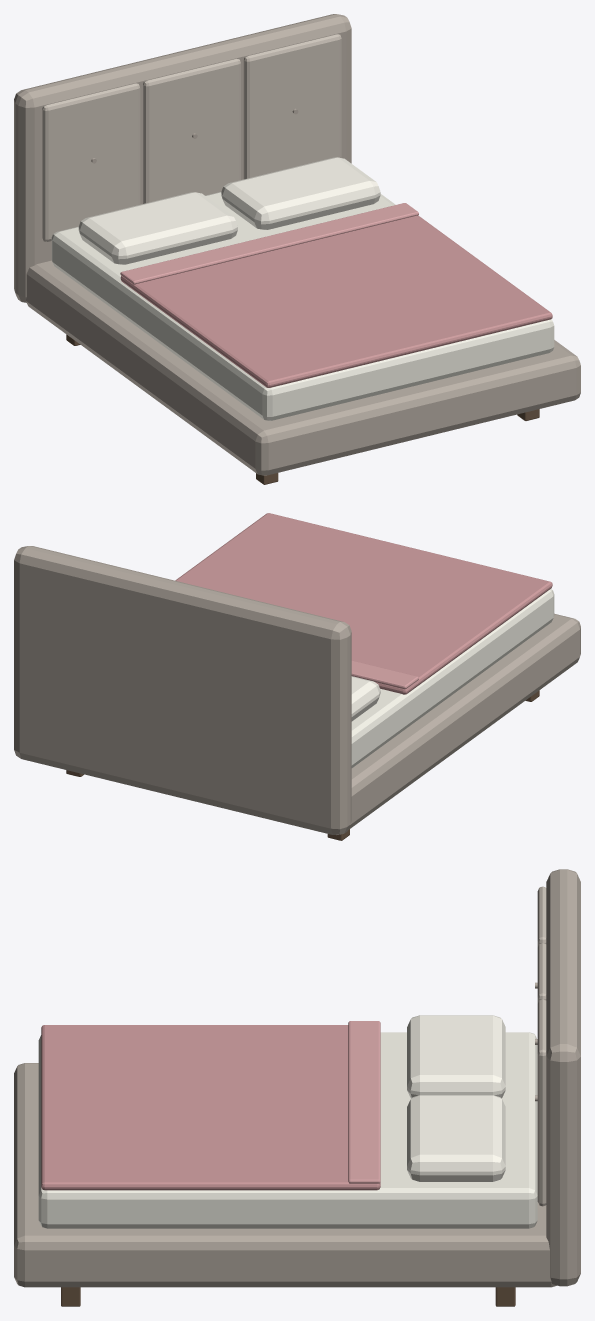
File: bed_double_upholstered.glb
3 views of the same model, one above another, from view 1: azimuth 30°, elevation 25°; view 2: azimuth 150°, elevation 25°; view 3: azimuth 270°, elevation 25° (orthographic). The views are drawn at different scales.
Visible parts, largest first — view 1: Upholstered double bed folded top blanket, Upholstered double platform, Upholstered double bed rounded mattress, Upholstered tall padded headboard, Upholstered headboard soft panel, Upholstered headboard soft panel.001, Upholstered headboard soft panel.002, Upholstered double bed soft pillow 1, Upholstered double bed soft pillow 2, Upholstered double bed blanket turned edge; view 2: Upholstered tall padded headboard, Upholstered double bed folded top blanket, Upholstered double platform, Upholstered double bed rounded mattress, Upholstered double bed blanket turned edge, Upholstered double bed soft pillow 1; view 3: Upholstered double bed folded top blanket, Upholstered double platform, Upholstered double bed rounded mattress, Upholstered tall padded headboard, Upholstered double bed soft pillow 2, Upholstered double bed soft pillow 1, Upholstered double bed blanket turned edge, Upholstered headboard soft panel.002, Upholstered headboard soft panel.001, Upholstered headboard soft panel.
Part boxes in pixels (left/top/right/bottom): Upholstered double bed folded top blanket: left=120, top=215, right=552, bottom=387; Upholstered double platform: left=26, top=260, right=580, bottom=475; Upholstered double bed rounded mattress: left=51, top=192, right=554, bottom=420; Upholstered tall padded headboard: left=14, top=14, right=351, bottom=302; Upholstered headboard soft panel: left=42, top=83, right=140, bottom=241; Upholstered headboard soft panel.001: left=143, top=58, right=240, bottom=203; Upholstered headboard soft panel.002: left=243, top=34, right=341, bottom=179; Upholstered double bed soft pillow 1: left=78, top=192, right=237, bottom=264; Upholstered double bed soft pillow 2: left=221, top=157, right=380, bottom=229; Upholstered double bed blanket turned edge: left=120, top=203, right=418, bottom=284; Upholstered tall padded headboard: left=14, top=546, right=351, bottom=834; Upholstered double bed folded top blanket: left=175, top=513, right=552, bottom=694; Upholstered double platform: left=348, top=613, right=580, bottom=829; Upholstered double bed rounded mattress: left=351, top=589, right=554, bottom=767; Upholstered double bed blanket turned edge: left=351, top=660, right=418, bottom=689; Upholstered double bed soft pillow 1: left=351, top=676, right=380, bottom=721; Upholstered double bed folded top blanket: left=41, top=1025, right=380, bottom=1190; Upholstered double platform: left=14, top=1063, right=556, bottom=1287; Upholstered double bed rounded mattress: left=38, top=1032, right=537, bottom=1228; Upholstered tall padded headboard: left=546, top=869, right=580, bottom=1286; Upholstered double bed soft pillow 2: left=407, top=1095, right=505, bottom=1181; Upholstered double bed soft pillow 1: left=407, top=1015, right=505, bottom=1098; Upholstered double bed blanket turned edge: left=348, top=1021, right=380, bottom=1183; Upholstered headboard soft panel.002: left=537, top=999, right=546, bottom=1206; Upholstered headboard soft panel.001: left=537, top=943, right=546, bottom=1003; Upholstered headboard soft panel: left=537, top=886, right=546, bottom=946.
Bounding box in the file's own units: 1.78 × 1.22 × 2.3.
